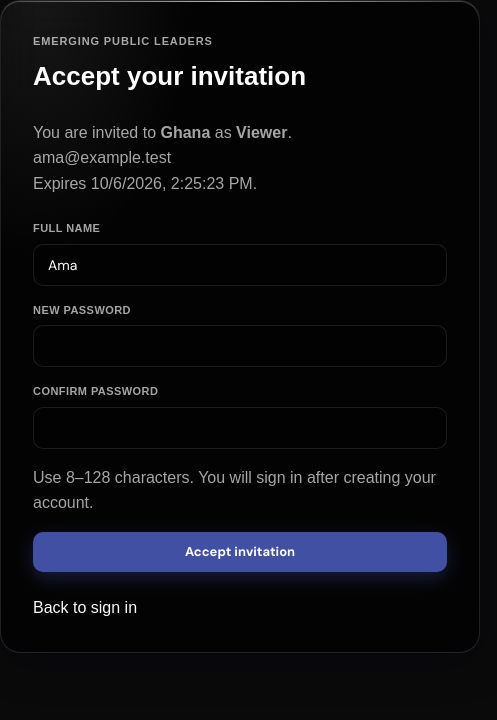
Test: invitation acceptance › shows rate-limit or expired-link errors without reporting success
Expected: the password field labelled "New password" is shown, top-left (33, 325), bottom-right (447, 367)
Replace the text in the field labelled "Full name" with "  Ama Mensah  ". click: (240,265)
box: top-left (33, 244), bottom-right (447, 286)
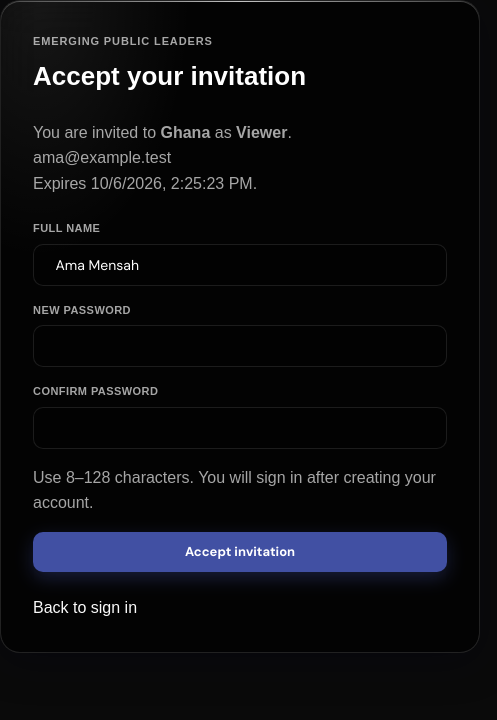
Type "Chosen-password-123" into the password field labelled "New password". click: (240,346)
box: top-left (33, 325), bottom-right (447, 367)
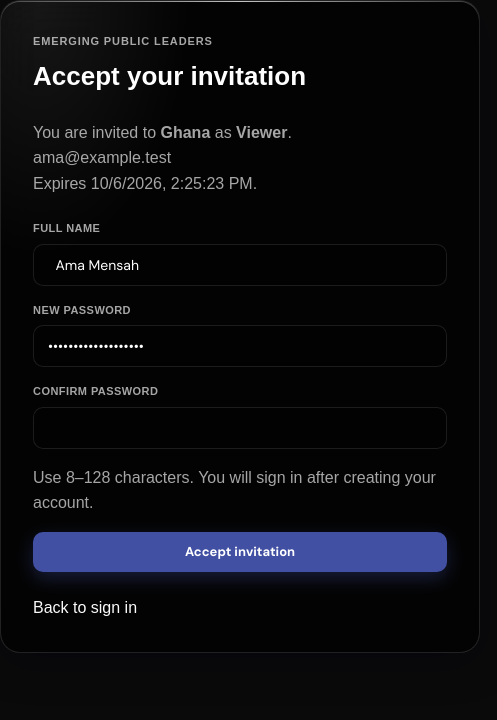
Type "Chosen-password-123" into the password field labelled "Confirm password". click: (240,428)
box: top-left (33, 407), bottom-right (447, 449)
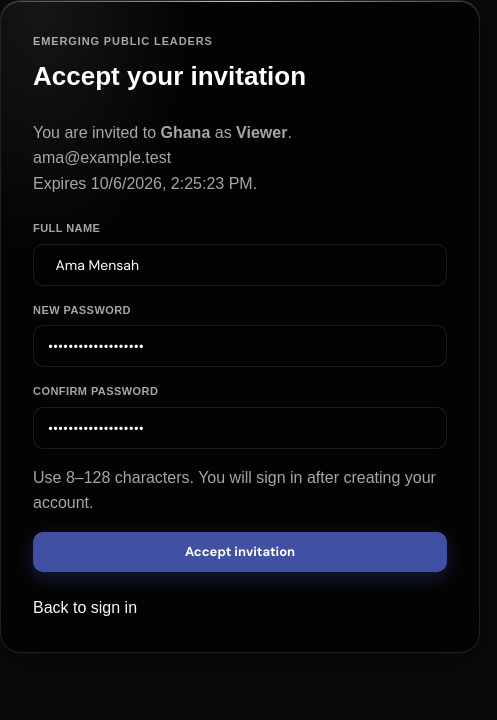
Click the button "Accept invitation". click: (240,552)
box: top-left (33, 532), bottom-right (447, 572)
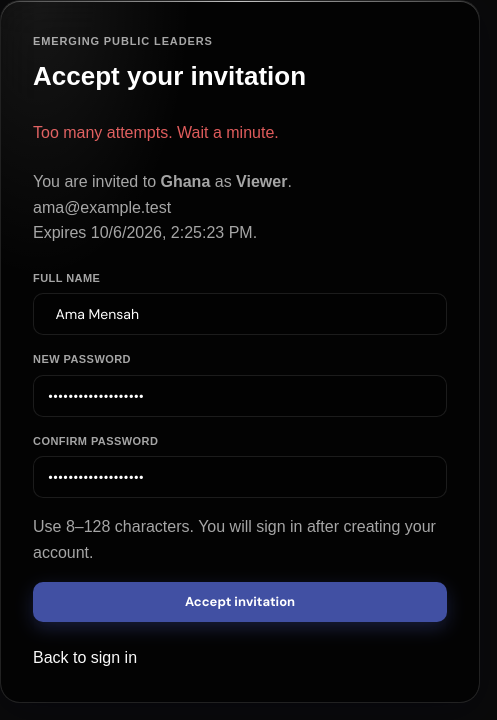
Expected: the message shows "Too many attempts", top-left (33, 124), bottom-right (279, 141)
